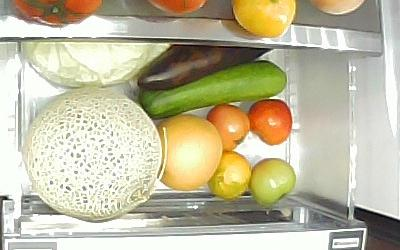cabbage: (22, 42, 172, 87)
eggplant: (137, 47, 275, 90)
melon: (22, 87, 163, 224)
pear: (155, 115, 222, 192)
prune: (248, 99, 294, 147)
tangerine: (208, 151, 251, 202)
tomato: (251, 156, 297, 208), (207, 104, 251, 152)
zucchini: (141, 60, 288, 121)
